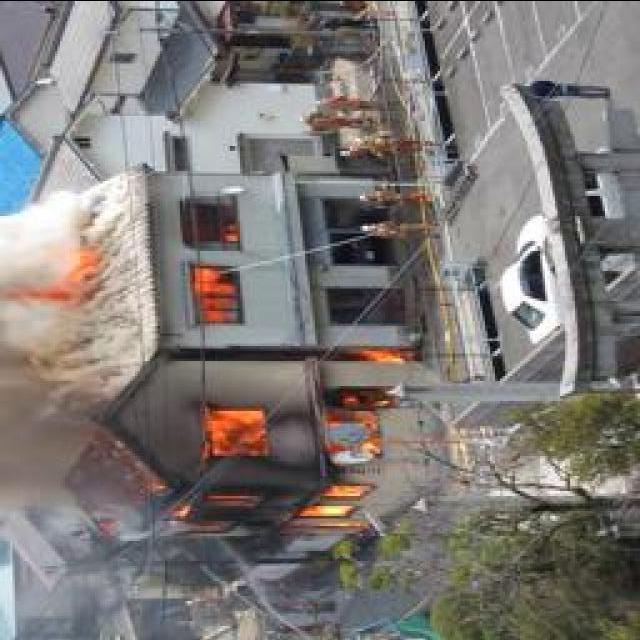Fire: (164, 342, 433, 554), (192, 199, 247, 330), (25, 240, 105, 314)
